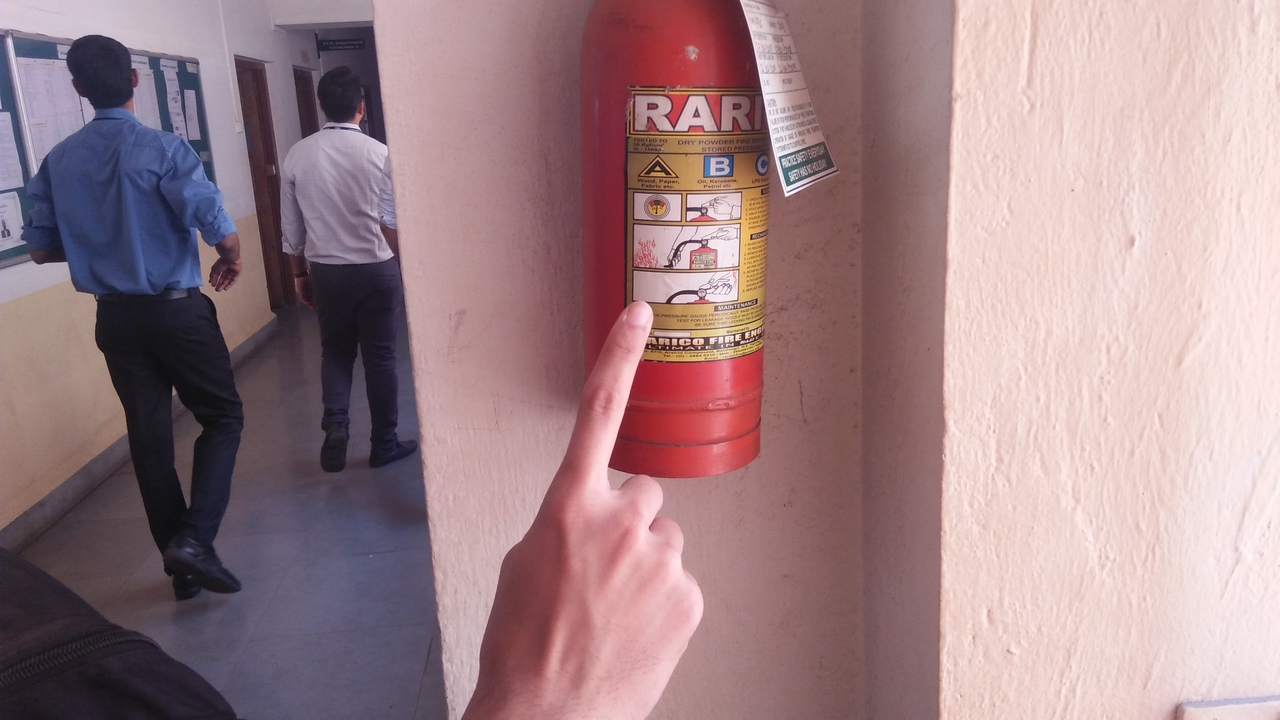fingertip: (606, 296, 658, 350)
